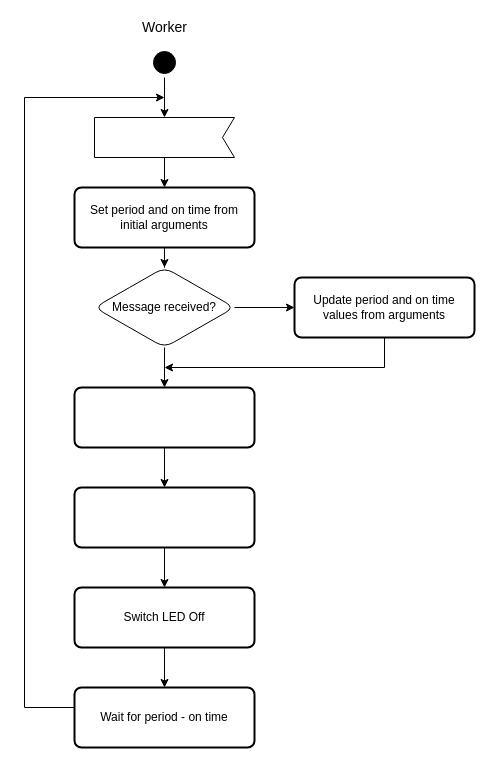
Some shapes in this 493 by 765 pixel diagram are drawn without their labels. The shapes that lost their labels are listed below. From the top down, each one's box as (x1, y1, x2, y2) in pixels, then its label:
(94, 116, 234, 158): Check for message
(73, 386, 255, 448): Switch LED On
(73, 486, 255, 548): Wait for on time
